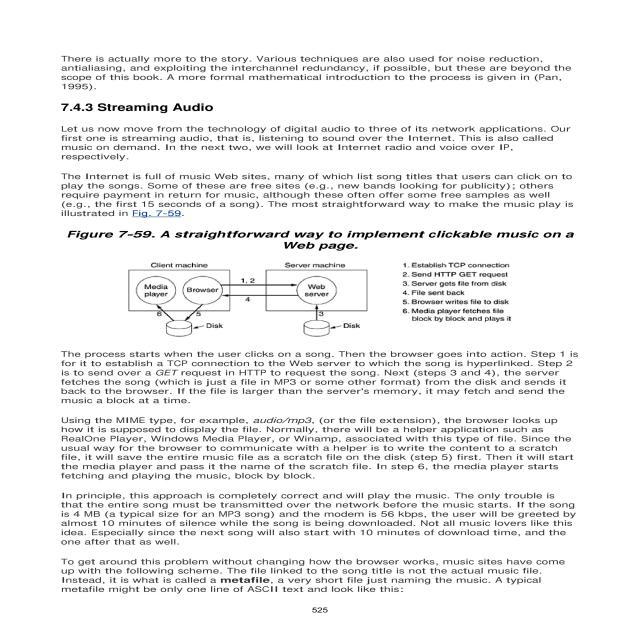diagram: (55, 218, 603, 342)
